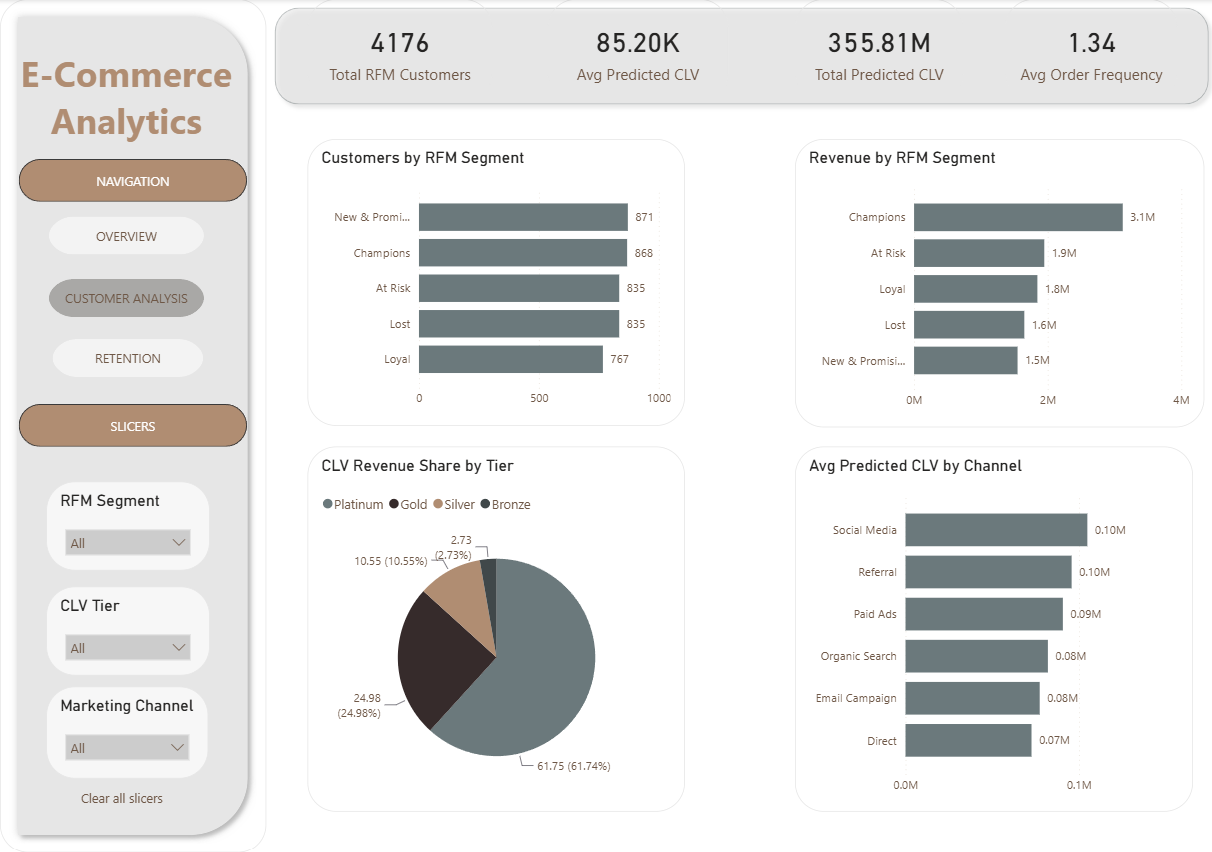

What the dashboard file says about the page in this screenshot:
{"tool":"powerbi","page":{"name":"Customer Analysis","canvas":[1280,900],"ordinal":1},"visuals":[{"type":"shape","box":[0,0,280,898.6],"z":0},{"type":"textbox","box":[12.8,47.7,239.5,122.1],"z":1000},{"type":"actionButton","box":[51.4,294.3,163.3,40],"z":2000},{"type":"actionButton","box":[55.7,357.1,158.6,40],"z":3000},{"type":"slicer","title":"CLV Tier","fields":{"Values":["clv_tier_summary.clv_tier"]},"box":[48.3,618.3,171.7,93.3],"z":5000},{"type":"actionButton","box":[76.7,820,98.8,39.5],"z":7000},{"type":"actionButton","box":[51.4,228.6,163.3,40],"z":8000},{"type":"shape","box":[280,0,1000,120],"z":9000},{"type":"shape","box":[20,168.6,240,45],"z":10000},{"type":"shape","box":[20,425.7,240,45],"z":11000},{"type":"card","fields":{"Values":["churn_by_channel.Total RFM Customers"]},"box":[322.9,0,194.3,108.6],"z":12000},{"type":"card","fields":{"Values":["churn_by_channel.Avg Predicted CLV"]},"box":[575.7,0,190,108.6],"z":13000},{"type":"card","fields":{"Values":["churn_by_channel.Total Predicted CLV"]},"box":[835.7,0,177.1,108.6],"z":14000},{"type":"card","fields":{"Values":["rfm_customers.Avg Order Frequency"]},"box":[1056.7,0,181.7,108.3],"z":15000},{"type":"barChart","title":"Customers by RFM Segment","fields":{"Category":["rfm_segments_summary.segment"],"Y":["Sum(rfm_segments_summary.customer_count)"]},"box":[322.9,147.1,397.1,301.4],"z":16000},{"type":"barChart","title":" Revenue by RFM Segment","fields":{"Category":["rfm_segments_summary.segment"],"Y":["Sum(rfm_segments_summary.total_revenue)"]},"box":[835.7,147.1,430,302.9],"z":17000},{"type":"pieChart","title":"CLV Revenue Share by Tier","fields":{"Category":["clv_tier_summary.clv_tier"],"Y":["Sum(clv_tier_summary.revenue_share_%)"]},"box":[322.9,470,397.1,384.3],"z":18000},{"type":"barChart","title":"Avg Predicted CLV by Channel","fields":{"Y":["Sum(clv_by_channel.avg_predicted_clv)"],"Category":["clv_by_channel.marketing_channel"]},"box":[835.7,470,418.6,384.3],"z":19000},{"type":"slicer","title":"RFM Segment","fields":{"Values":["rfm_segments_summary.segment"]},"box":[48.3,506.7,171.7,93.3],"z":21000},{"type":"slicer","title":"Marketing Channel","fields":{"Values":["clv_by_channel.marketing_channel"]},"box":[48.3,723.3,170,96.7],"z":22000}]}

Visuals, with their boxes in screenshot pixels (x1, y1, x2, y2), scaled from the page's 1280x900 canvas onto the 1212x852 screenshot:
shape: locate(0, 0, 265, 851)
textbox: locate(12, 45, 239, 161)
actionButton: locate(49, 279, 203, 316)
actionButton: locate(53, 338, 203, 376)
"CLV Tier" slicer: locate(46, 585, 208, 674)
actionButton: locate(73, 776, 166, 814)
actionButton: locate(49, 216, 203, 254)
shape: locate(265, 0, 1211, 114)
shape: locate(19, 160, 246, 202)
shape: locate(19, 403, 246, 446)
card - churn_by_channel.Total RFM Customers: locate(306, 0, 490, 103)
card - churn_by_channel.Avg Predicted CLV: locate(545, 0, 725, 103)
card - churn_by_channel.Total Predicted CLV: locate(791, 0, 959, 103)
card - rfm_customers.Avg Order Frequency: locate(1001, 0, 1173, 103)
"Customers by RFM Segment" barChart: locate(306, 139, 682, 425)
" Revenue by RFM Segment" barChart: locate(791, 139, 1198, 426)
"CLV Revenue Share by Tier" pieChart: locate(306, 445, 682, 809)
"Avg Predicted CLV by Channel" barChart: locate(791, 445, 1188, 809)
"RFM Segment" slicer: locate(46, 480, 208, 568)
"Marketing Channel" slicer: locate(46, 685, 207, 776)
